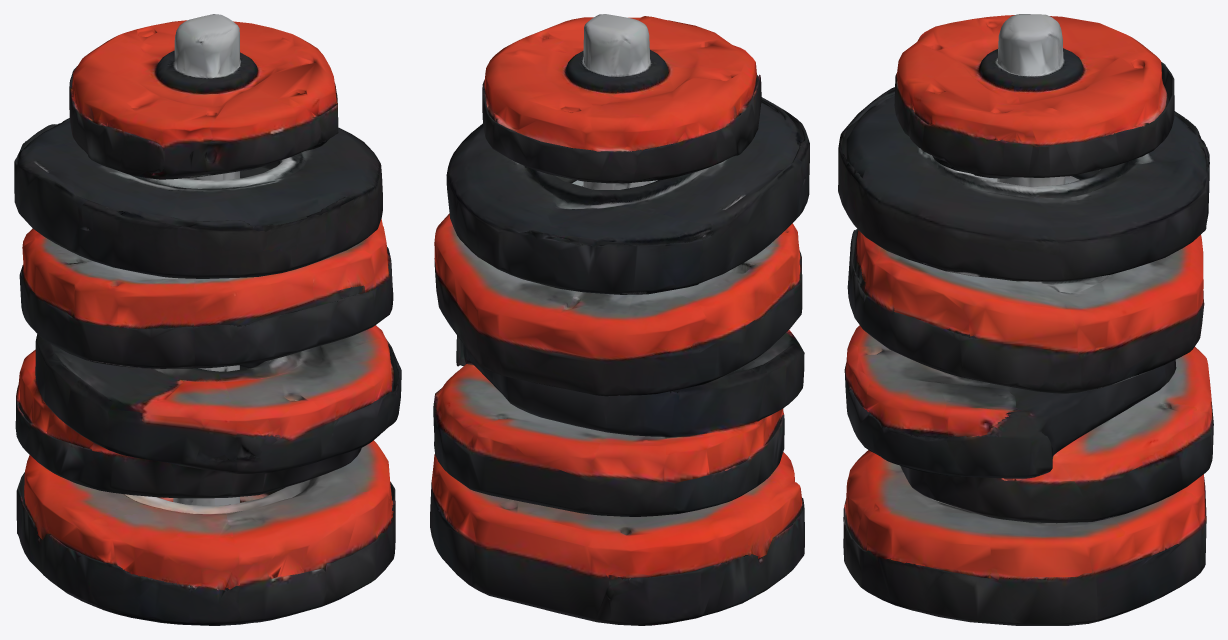
The model's file is plate-tree.glb.
3 views of the same model, side by side, from view 1: azimuth 30°, elevation 25°; view 2: azimuth 150°, elevation 25°; view 3: azimuth 270°, elevation 25° (orthographic).
Parts seen in each view (by area): view 1: tripo_node_33be7b3f-8326-4a25-aefb-57240208840b; view 2: tripo_node_33be7b3f-8326-4a25-aefb-57240208840b; view 3: tripo_node_33be7b3f-8326-4a25-aefb-57240208840b.
Boxes of the visible parts, left/top/right/bottom form: tripo_node_33be7b3f-8326-4a25-aefb-57240208840b: left=14, top=14, right=401, bottom=625; tripo_node_33be7b3f-8326-4a25-aefb-57240208840b: left=430, top=14, right=809, bottom=625; tripo_node_33be7b3f-8326-4a25-aefb-57240208840b: left=838, top=14, right=1213, bottom=625.
Bounding box in the file's own units: 0.5918 × 0.9995 × 0.5923.
1 material, 1 textured.
